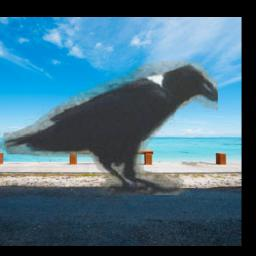Crow: (0, 61, 218, 195)
